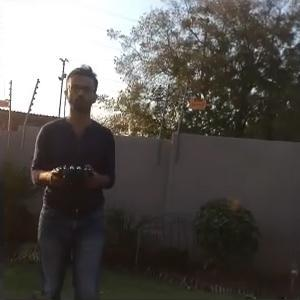follow: (24, 59, 117, 299)
